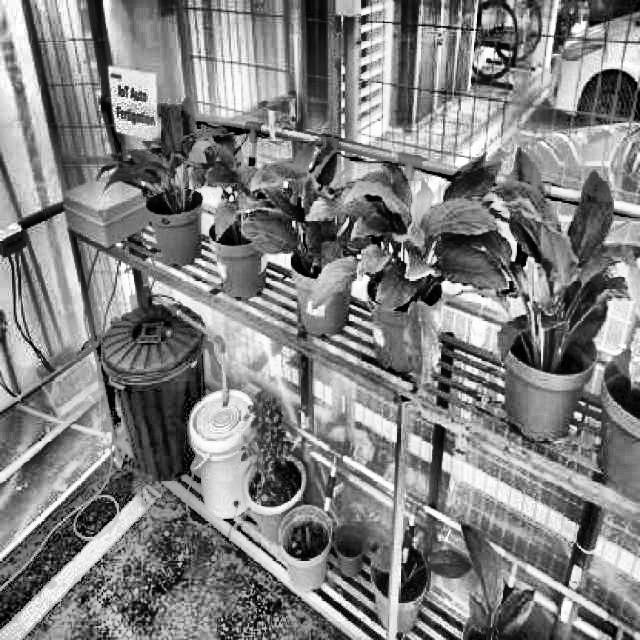plants: (304, 149, 512, 391), (492, 145, 640, 370), (238, 134, 362, 277), (97, 96, 237, 216), (189, 132, 291, 246)
